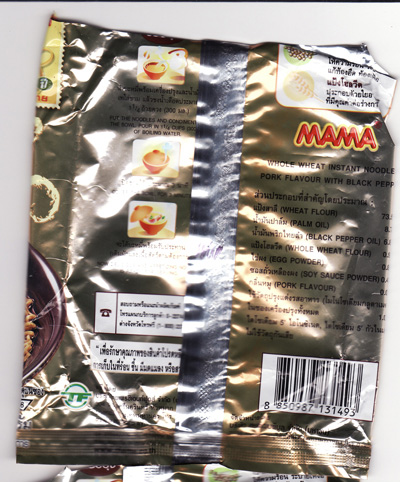Snack: (14, 9, 400, 482)
